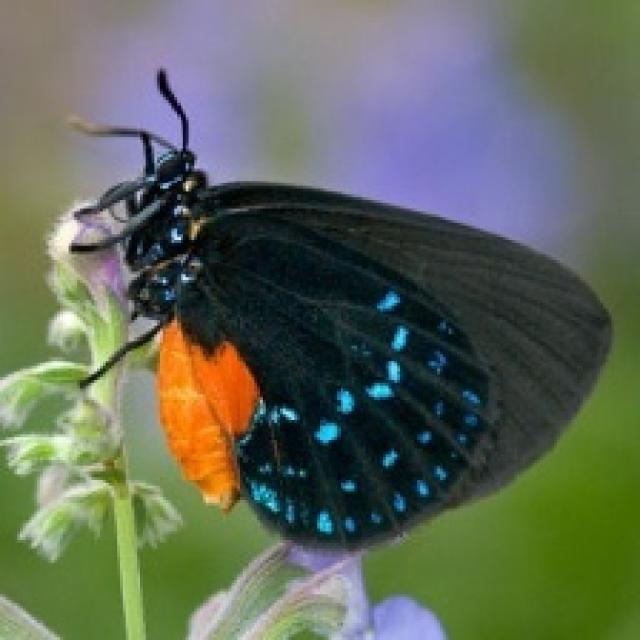butterfly: (63, 63, 611, 554)
